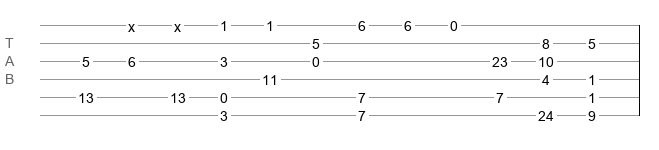0: (220, 90, 228, 100), (312, 54, 320, 64), (450, 18, 458, 28)
1: (220, 18, 228, 28), (266, 18, 274, 28), (588, 72, 596, 82), (588, 90, 596, 100)
10: (538, 54, 554, 64)
11: (262, 72, 278, 82)
13: (78, 90, 94, 100), (170, 90, 186, 100)
23: (492, 54, 508, 64)
24: (538, 108, 554, 118)
3: (220, 108, 228, 118), (220, 54, 228, 64)
4: (542, 72, 550, 82)
5: (82, 54, 90, 64), (312, 36, 320, 46), (588, 36, 596, 46)
6: (128, 54, 136, 64), (358, 18, 366, 28), (404, 18, 412, 28)
7: (358, 90, 366, 100), (358, 108, 366, 118), (496, 90, 504, 100)
8: (542, 36, 550, 46)
9: (588, 108, 596, 118)
x: (128, 19, 135, 27), (174, 19, 181, 27)
